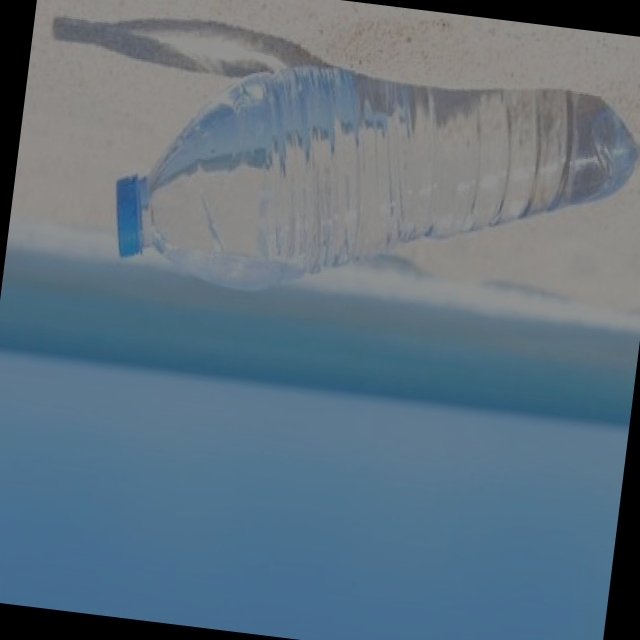Plastic-bottle: (85, 39, 626, 316)
